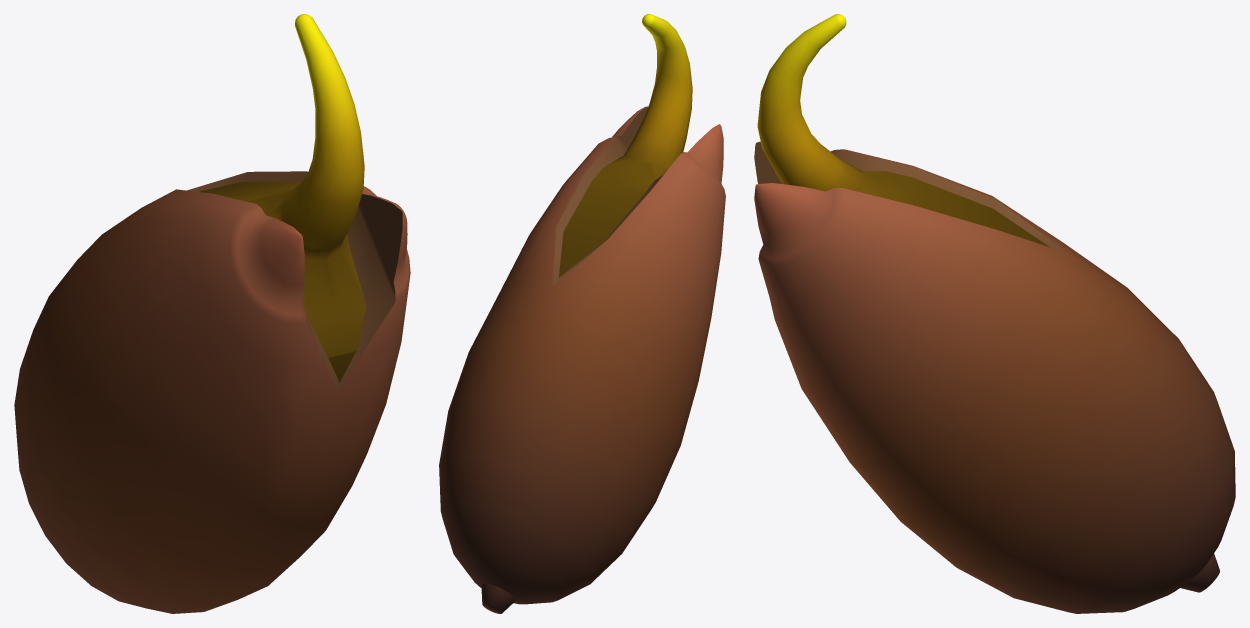
The model's file is sprout_seed.fbx.
3 views of the same model, side by side, from view 1: azimuth 30°, elevation 25°; view 2: azimuth 150°, elevation 25°; view 3: azimuth 270°, elevation 25° (orthographic). The views are drawn at different scales.
Parts seen in each view (by area): view 1: Object; view 2: Object; view 3: Object.
Boxes of the visible parts, bbox=[...] form: Object: bbox=[14, 14, 410, 613]; Object: bbox=[439, 14, 725, 613]; Object: bbox=[754, 14, 1235, 613].
Size of the model in its own units: 9.45 by 24.06 by 17.77.
